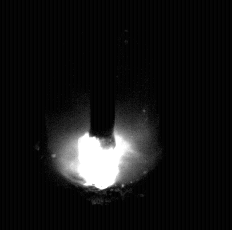arame: (91, 0, 117, 149)
poca: (49, 0, 156, 230)
